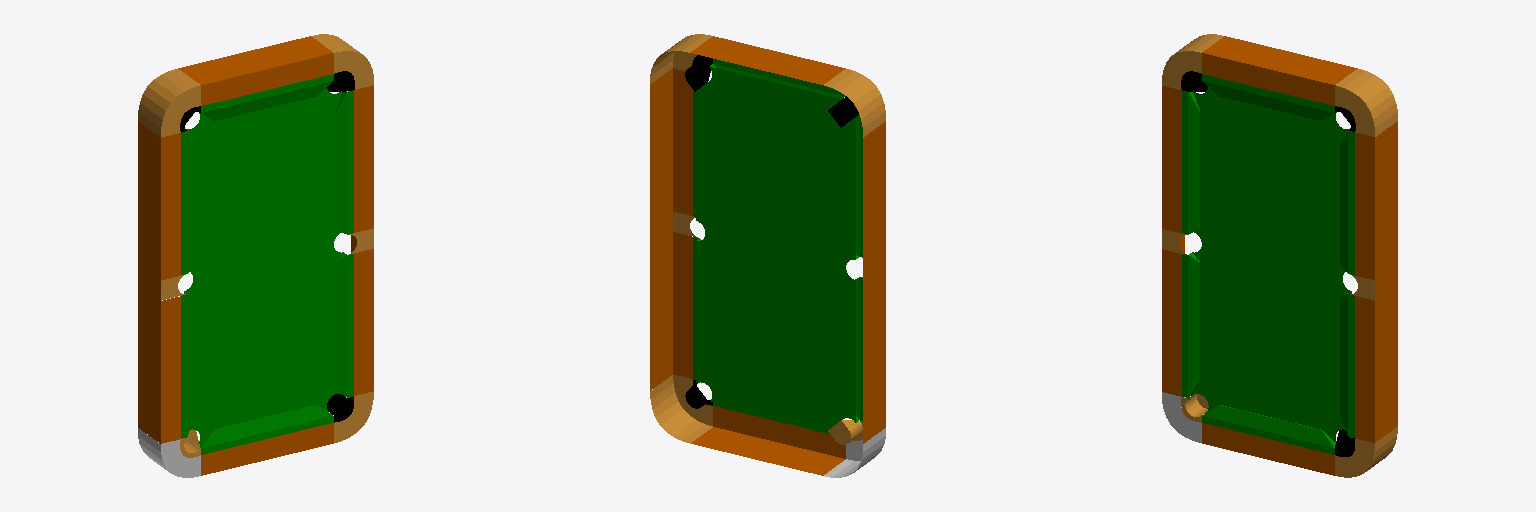
Rendered from pooltable.obj.
3 renders of one model, left to right at view 1: azimuth 30°, elevation 25°; view 2: azimuth 150°, elevation 25°; view 3: azimuth 330°, elevation 25°, orthographic.
Parts seen in each view (by area): view 1: FELT, WOOD1, WOOD3, WOOD4, WOOD2, BRASCO5, BRASCOR1, COPCOR16, COPCOR1, COPCOR1., PANIER2; view 2: FELT, WOOD3, WOOD1, WOOD2, WOOD4, BRASCO4, BRASCOR1, BRASCO5, BRASCO3, COPCOR1, PANIER1., PANIER1; view 3: FELT, WOOD3, WOOD1, WOOD4, WOOD2, BRASCO3, BRASCO5, COPCOR16, COPCOR1, COPCOR1..
Boxes of the visible parts, x1,y1,x2,y2 form: FELT: [181, 74, 353, 454]; WOOD1: [138, 121, 180, 443]; WOOD3: [351, 85, 373, 395]; WOOD4: [178, 36, 333, 105]; WOOD2: [201, 423, 333, 475]; BRASCO5: [138, 428, 200, 477]; BRASCOR1: [138, 69, 199, 137]; COPCOR16: [161, 85, 200, 136]; COPCOR1: [334, 391, 373, 442]; COPCOR1.: [334, 51, 373, 89]; PANIER2: [327, 394, 353, 422]; FELT: [693, 59, 862, 433]; WOOD3: [650, 68, 692, 390]; WOOD1: [863, 121, 885, 443]; WOOD2: [691, 406, 845, 475]; WOOD4: [691, 36, 845, 84]; BRASCO4: [650, 375, 712, 443]; BRASCOR1: [824, 69, 885, 137]; BRASCO5: [824, 420, 885, 477]; BRASCO3: [650, 34, 712, 83]; COPCOR1: [673, 375, 712, 425]; PANIER1.: [685, 55, 712, 91]; PANIER1: [828, 96, 858, 127]; FELT: [1182, 74, 1354, 454]; WOOD3: [1355, 121, 1397, 442]; WOOD1: [1162, 86, 1184, 396]; WOOD4: [1202, 36, 1357, 105]; WOOD2: [1202, 423, 1334, 475]; BRASCO3: [1336, 69, 1397, 136]; BRASCO5: [1162, 392, 1208, 442]; COPCOR16: [1162, 51, 1201, 89]; COPCOR1: [1335, 439, 1374, 477]; COPCOR1.: [1335, 85, 1374, 136].
Bounding box in the file's own units: 641 × 1120 × 120.